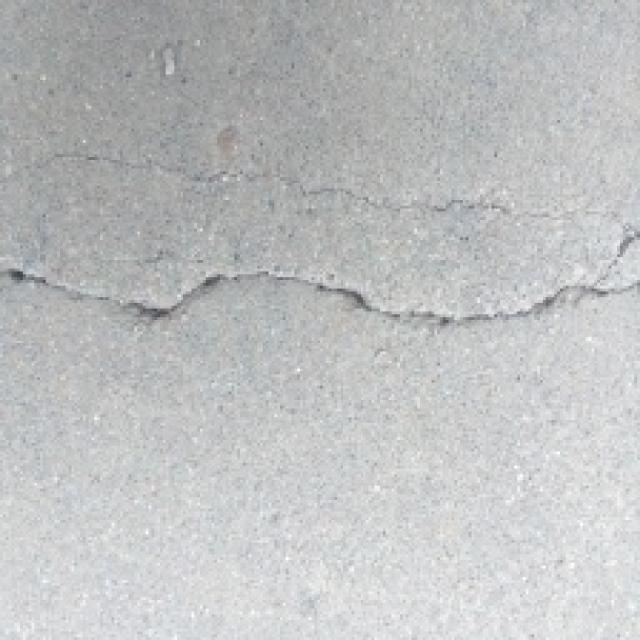crack: (0, 214, 640, 366)
